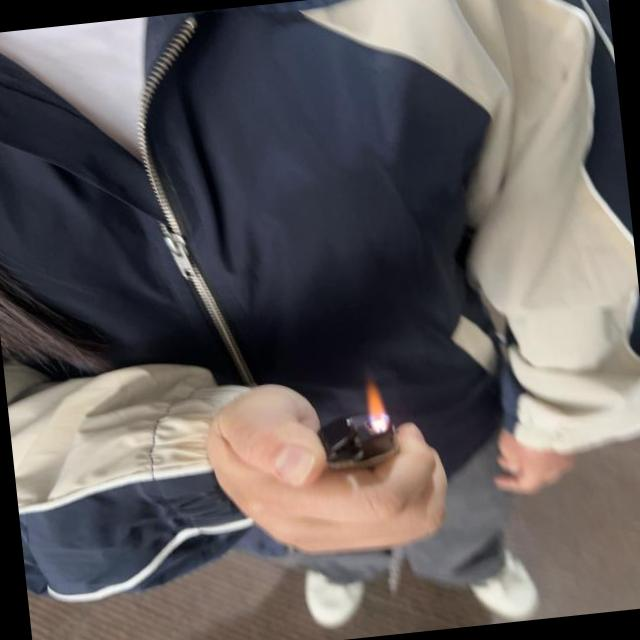Fire: (364, 376, 392, 435)
